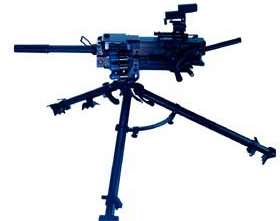rifle: (7, 1, 273, 217)
